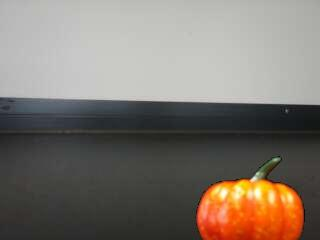Pumpkin: (195, 155, 306, 240)
